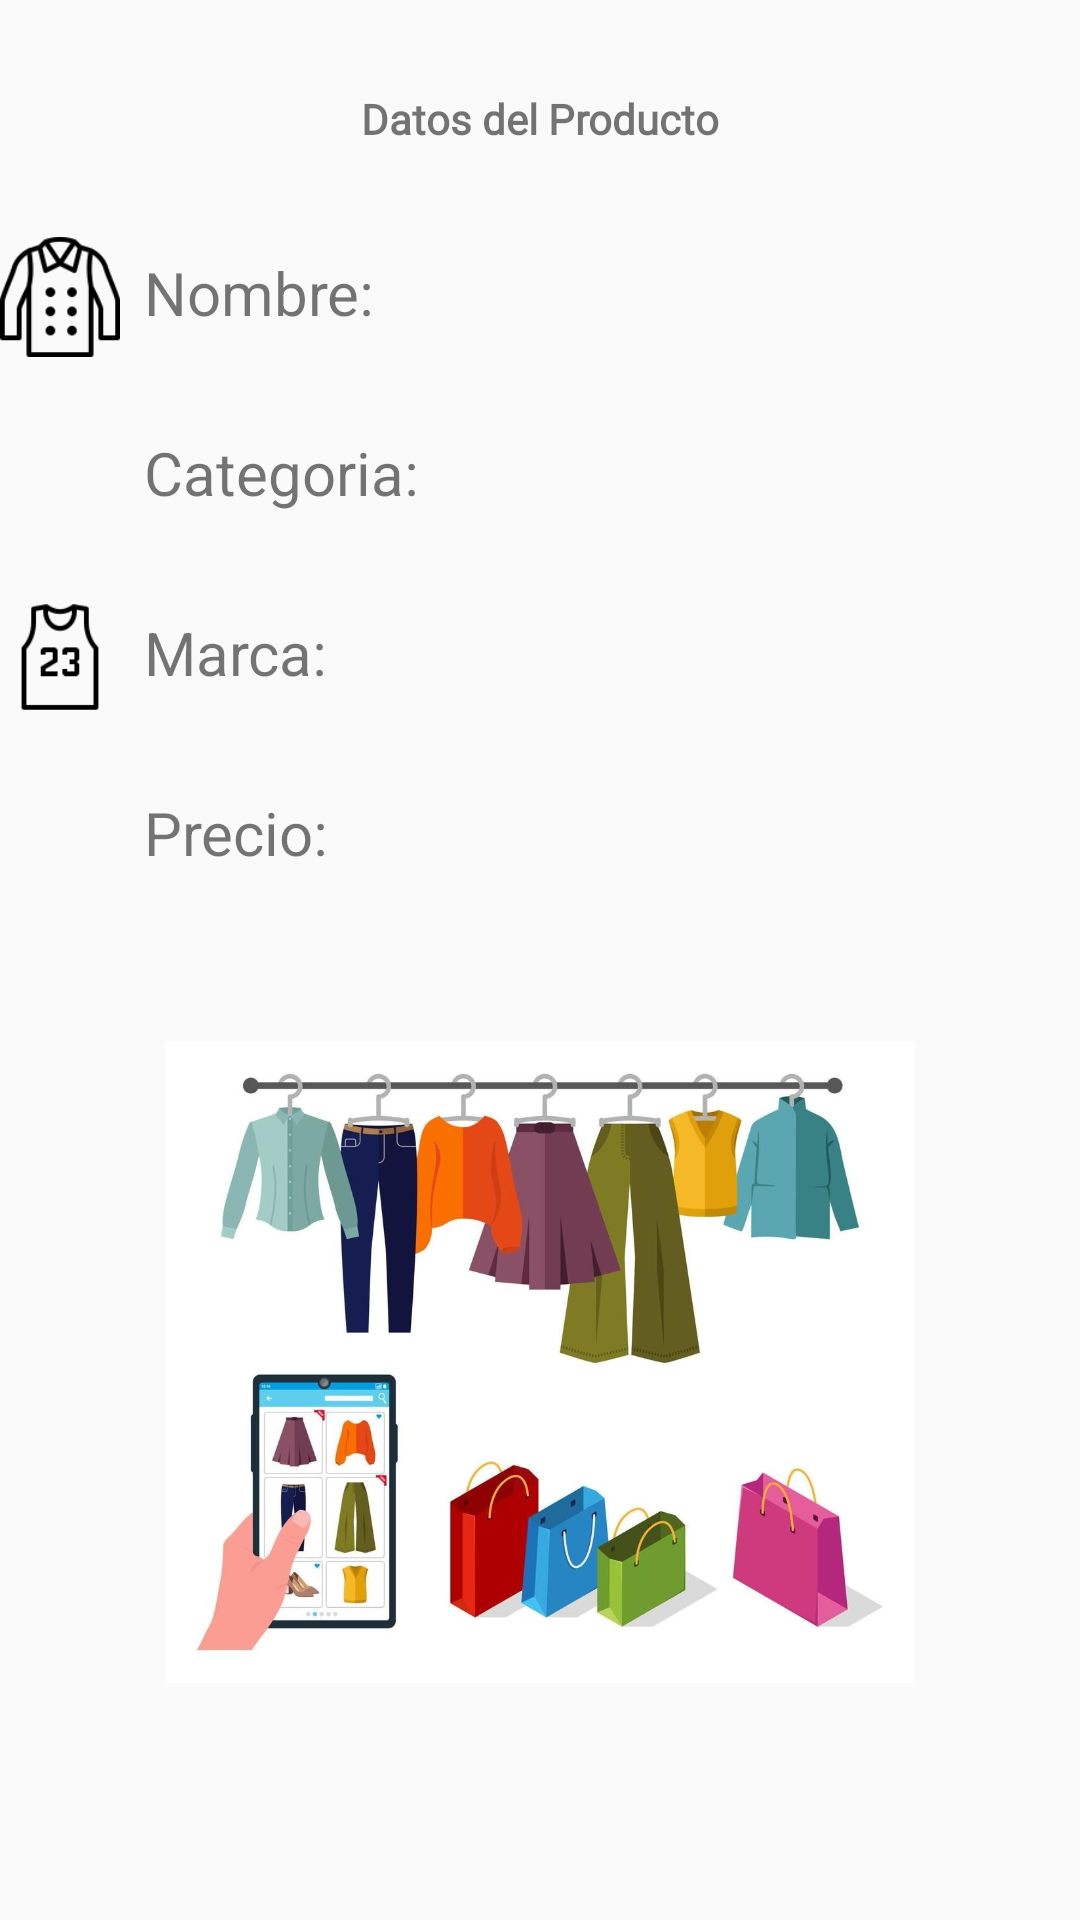

Screen size 1080 × 1920. Icon name, then its box in pixels as box=[x1, y1, x2, y2]:
camiseta baloncesto: box=[21, 604, 99, 710]
capa: box=[0, 237, 120, 357]
